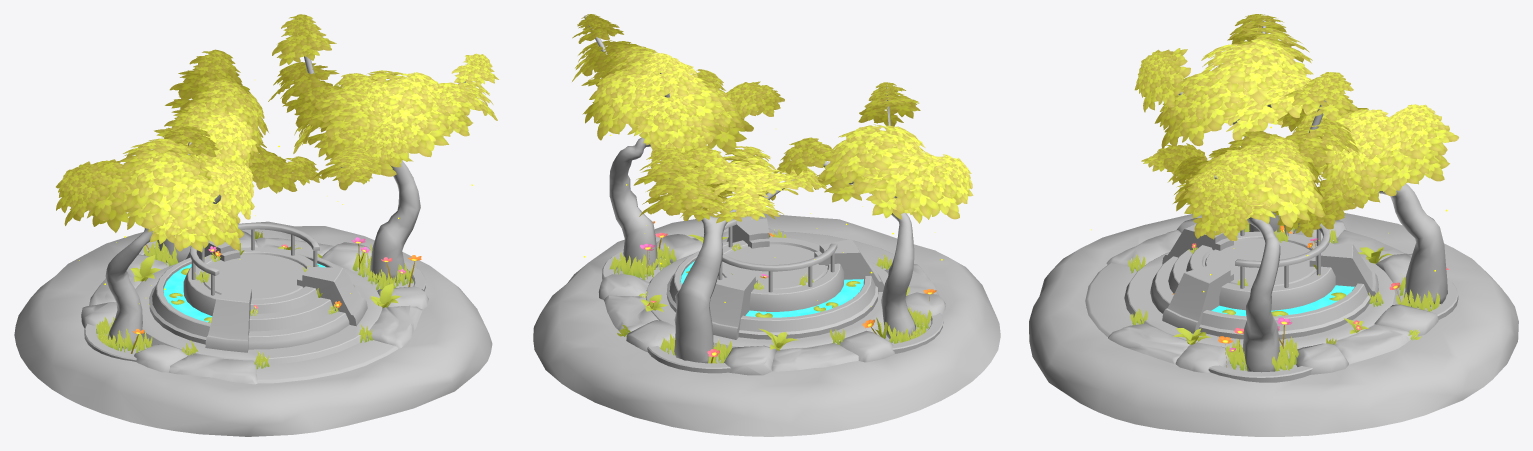
3 views of the same model, side by side, from view 1: azimuth 30°, elevation 25°; view 2: azimuth 150°, elevation 25°; view 3: azimuth 270°, elevation 25° (orthographic). The views are drawn at different scales.
Visible parts, largest first — view 1: Ground_13, Base_15, Tree1_leaves_23, Tree3_leaves_24, Tree2_leaves_25, Foliage_14, Rocks1_18, Rocks2_19, Tree1_trunk_20, Tree3_trunk_21, Railling_16, Corners_17; view 2: Ground_13, Base_15, Tree1_leaves_23, Tree3_leaves_24, Tree2_leaves_25, Rocks2_19, Foliage_14, Tree2_trunk_22, Rocks1_18, Tree1_trunk_20, Tree3_trunk_21, Corners_17 (+1 smaller); view 3: Ground_13, Base_15, Tree1_leaves_23, Tree3_leaves_24, Tree2_leaves_25, Rocks1_18, Foliage_14, Rocks2_19, Tree1_trunk_20, Tree2_trunk_22, Corners_17, Railling_16.
Boxes of the visible parts, left/top/right/bottom form: Ground_13: left=14, top=221, right=492, bottom=436; Base_15: left=135, top=240, right=397, bottom=383; Tree1_leaves_23: left=268, top=14, right=498, bottom=190; Tree3_leaves_24: left=56, top=126, right=254, bottom=252; Tree2_leaves_25: left=154, top=49, right=322, bottom=193; Foliage_14: left=96, top=230, right=421, bottom=369; Rocks1_18: left=89, top=237, right=422, bottom=384; Rocks2_19: left=81, top=230, right=428, bottom=372; Tree1_trunk_20: left=304, top=56, right=486, bottom=282; Tree3_trunk_21: left=105, top=142, right=221, bottom=348; Railling_16: left=190, top=223, right=319, bottom=295; Corners_17: left=84, top=241, right=425, bottom=361; Ground_13: left=533, top=213, right=1000, bottom=436; Base_15: left=646, top=218, right=894, bottom=349; Tree1_leaves_23: left=572, top=14, right=784, bottom=159; Tree3_leaves_24: left=774, top=82, right=973, bottom=223; Tree2_leaves_25: left=633, top=146, right=827, bottom=223; Rocks2_19: left=598, top=234, right=945, bottom=375; Foliage_14: left=609, top=221, right=936, bottom=363; Tree2_trunk_22: left=669, top=178, right=794, bottom=363; Rocks1_18: left=604, top=228, right=939, bottom=371; Tree1_trunk_20: left=584, top=15, right=669, bottom=267; Tree3_trunk_21: left=823, top=85, right=915, bottom=338; Corners_17: left=602, top=251, right=943, bottom=373; Ground_13: left=1029, top=213, right=1518, bottom=436; Base_15: left=1085, top=223, right=1400, bottom=355; Tree1_leaves_23: left=1141, top=72, right=1360, bottom=240; Tree3_leaves_24: left=1134, top=14, right=1319, bottom=148; Tree2_leaves_25: left=1273, top=104, right=1458, bottom=237; Rocks1_18: left=1106, top=230, right=1414, bottom=364; Foliage_14: left=1128, top=215, right=1448, bottom=371; Rocks2_19: left=1175, top=218, right=1438, bottom=374; Tree1_trunk_20: left=1214, top=100, right=1326, bottom=372; Tree2_trunk_22: left=1378, top=183, right=1447, bottom=307; Corners_17: left=1208, top=215, right=1458, bottom=382; Railling_16: left=1235, top=211, right=1330, bottom=288.
Size of the model in its own units: 11.17 by 7.11 by 10.52.
